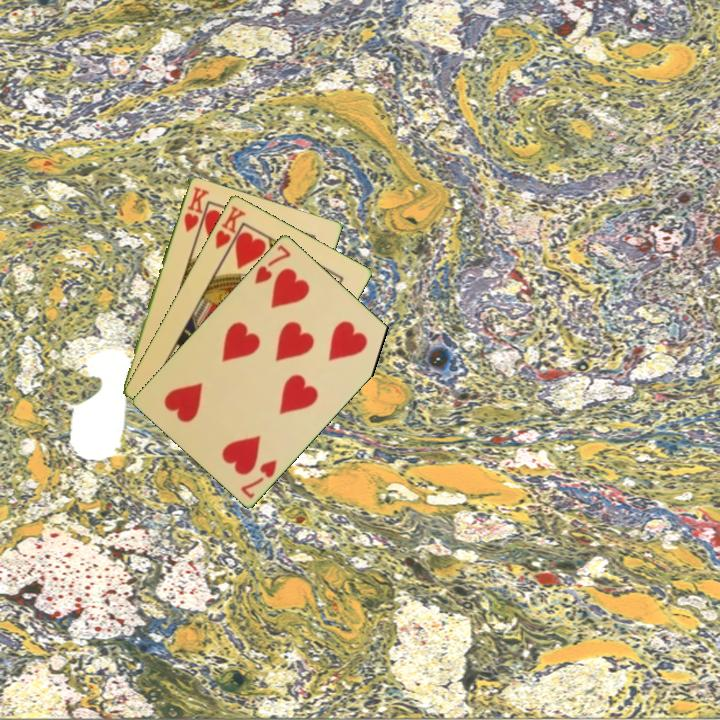7h: (251, 241, 294, 287), (237, 456, 280, 501)
Kh: (211, 202, 249, 259), (180, 183, 211, 235)
